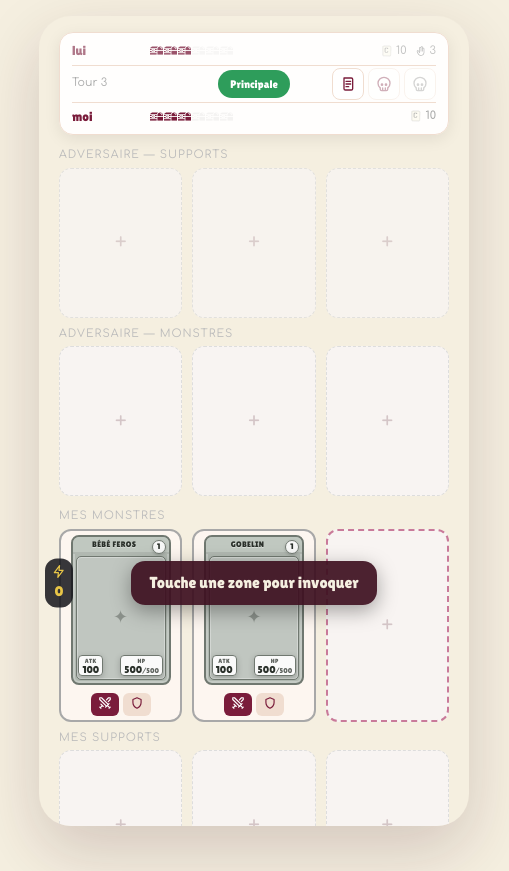
it: FightBoard — confirmations et recyclage rapide › énergie insuffisante : pas de confirmation, message de manque
Click the element with class "zr-zone" below "Mes Monstres": click(387, 625) [326,528,449,722]
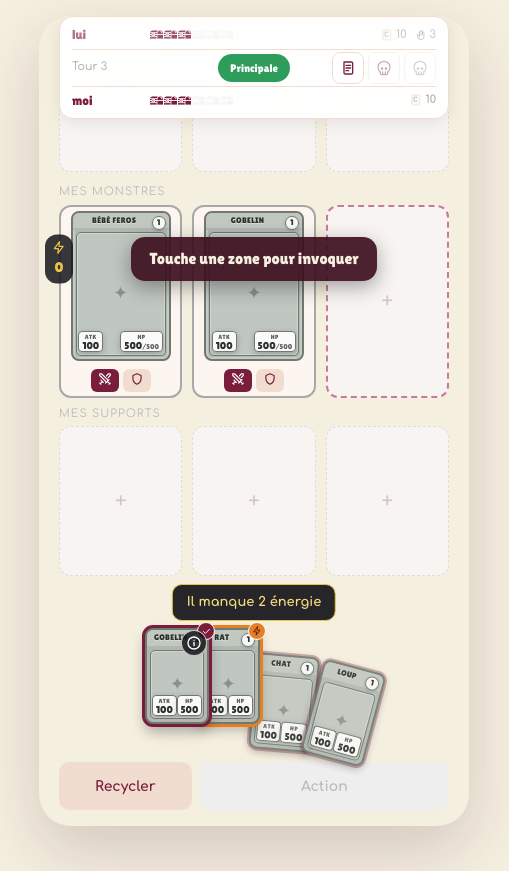
Check: the text "Il manque 2 énergie" is shown, box [172,584,336,621]
